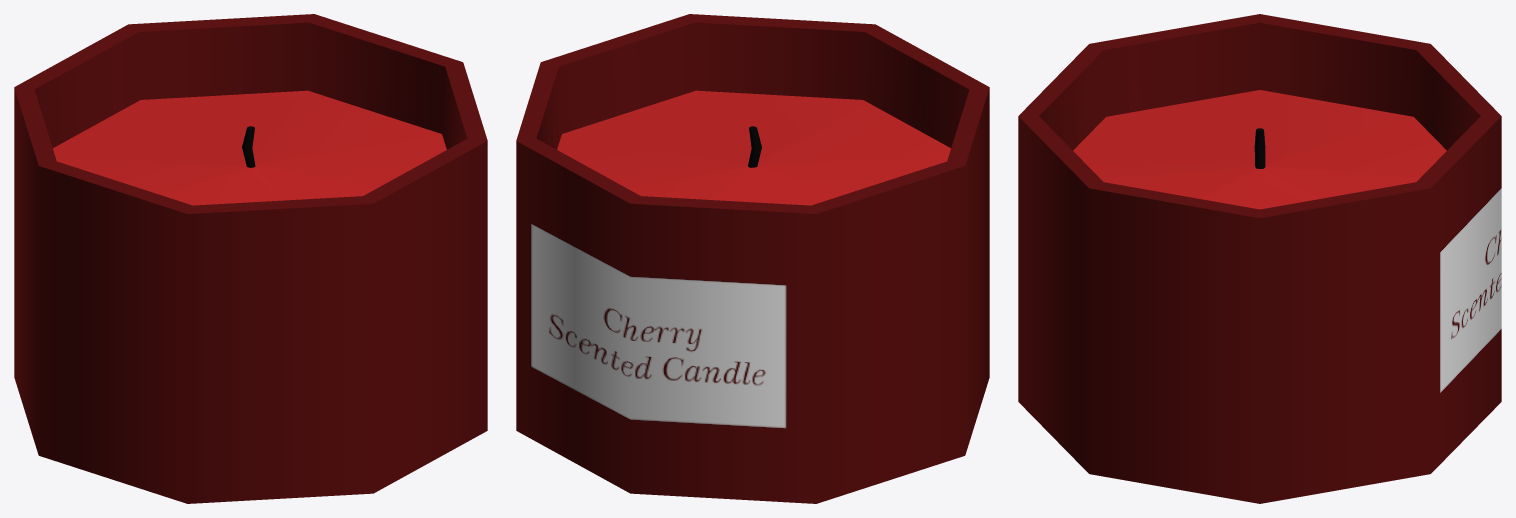
The model's file is furniture_decor_210002.glb.
The picture shows the model from 3 angles, left to right: view 1: azimuth 30°, elevation 25°; view 2: azimuth 150°, elevation 25°; view 3: azimuth 270°, elevation 25°; orthographic projection.
Parts seen in each view (by area): view 1: furniture_decor_210002; view 2: furniture_decor_210002; view 3: furniture_decor_210002.
Boxes of the visible parts, x1,y1,x2,y2 form: furniture_decor_210002: (14,14,487,503); furniture_decor_210002: (516,14,989,503); furniture_decor_210002: (1018,14,1501,503).
Size of the model in its own units: 0.1295 by 0.0845 by 0.1295.
Materials: 1 (1 with a texture image).
